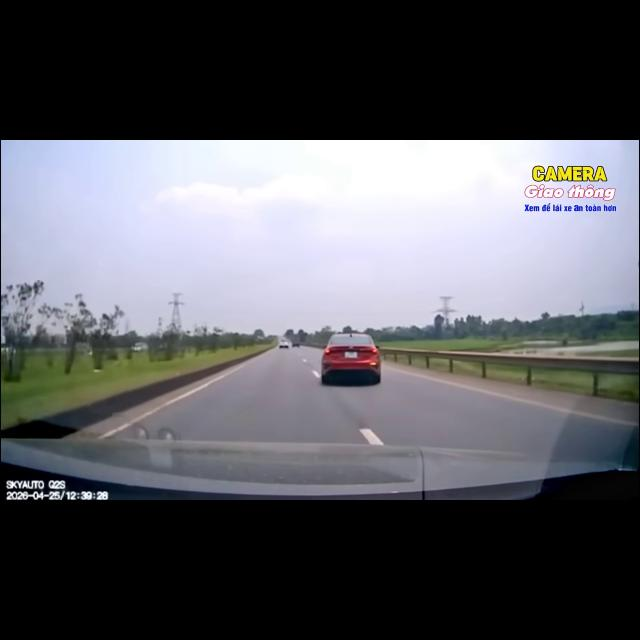car: (321, 333, 380, 383), (279, 340, 289, 348), (292, 341, 299, 347)
